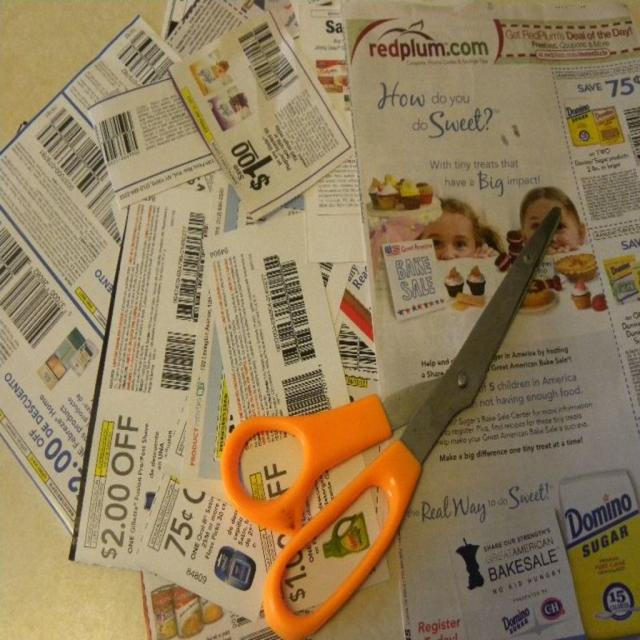scissors: (220, 205, 561, 638)
